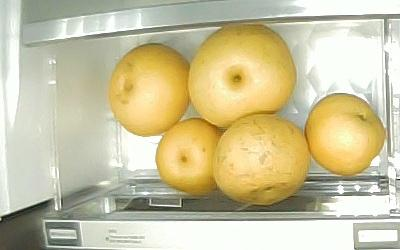pear: (187, 22, 297, 127), (213, 114, 310, 205), (108, 42, 190, 137), (304, 92, 385, 174), (155, 118, 223, 196)
